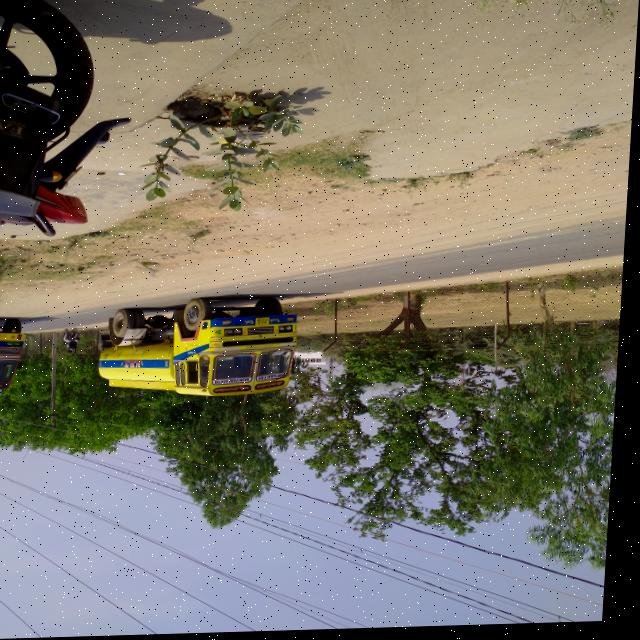plate: (259, 320, 274, 327)
